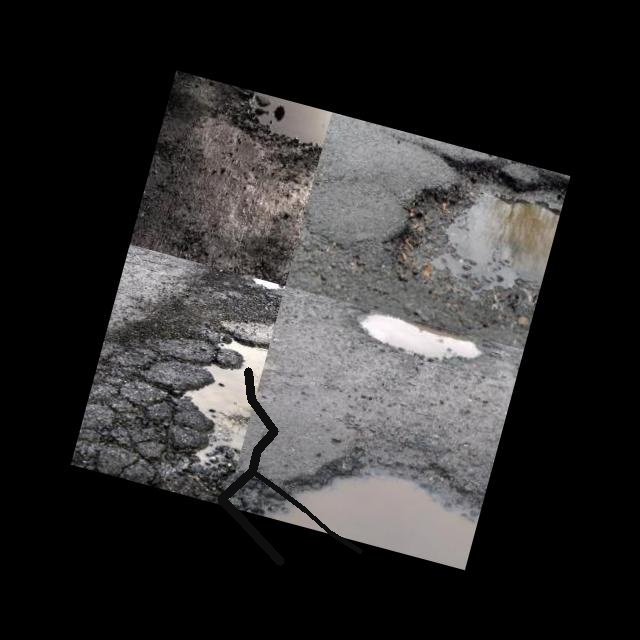road_crack: (211, 361, 290, 571)
